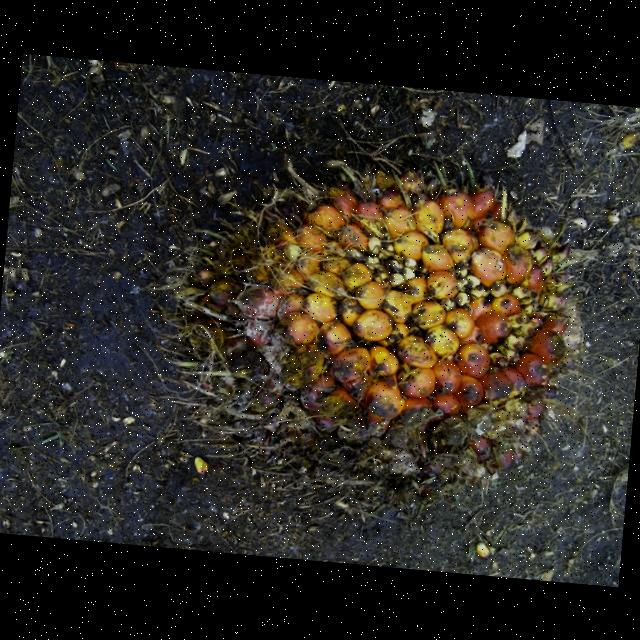Ripe: (177, 149, 588, 508)
